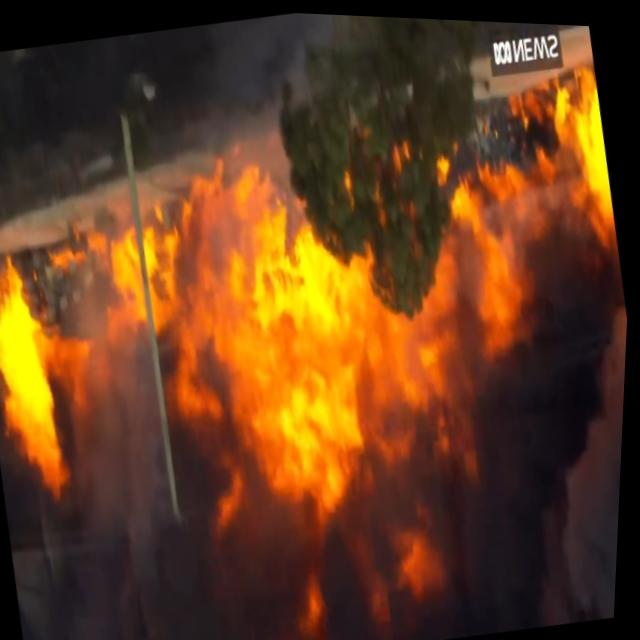Fire: (0, 93, 623, 640), (547, 55, 625, 241)
